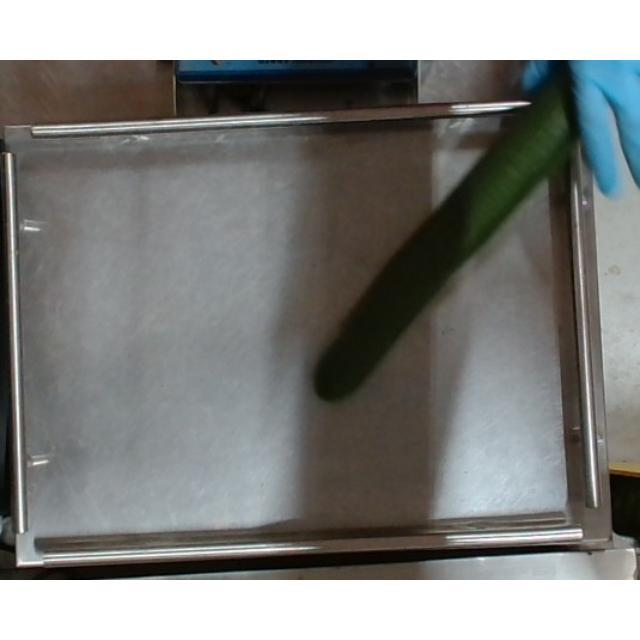cucumber: (308, 97, 608, 407)
